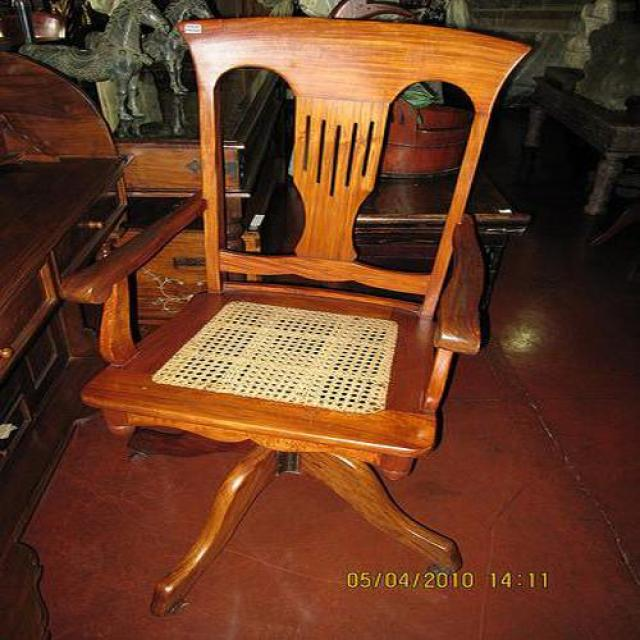swivelchair: (64, 17, 536, 618)
